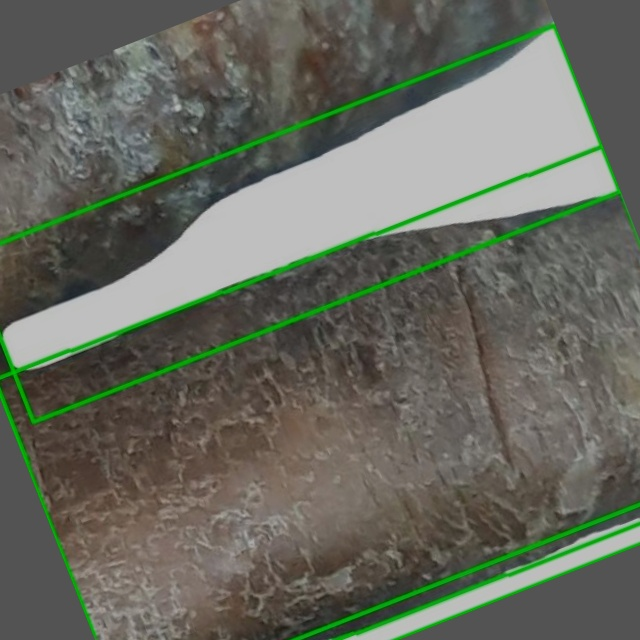Eczema: (0, 145, 639, 639), (0, 25, 620, 422)
